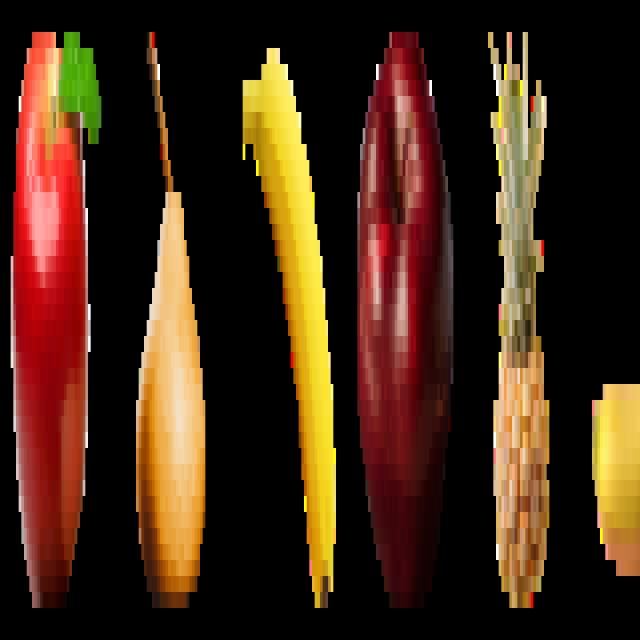apple: (351, 19, 459, 621), (9, 13, 100, 629)
bananas: (235, 29, 340, 628)
pear: (132, 10, 214, 628)
pineapples: (483, 6, 562, 618)
